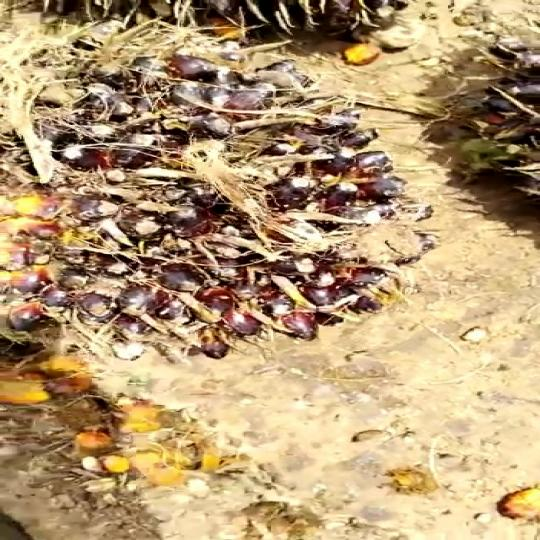mentah: (26, 29, 420, 372)
